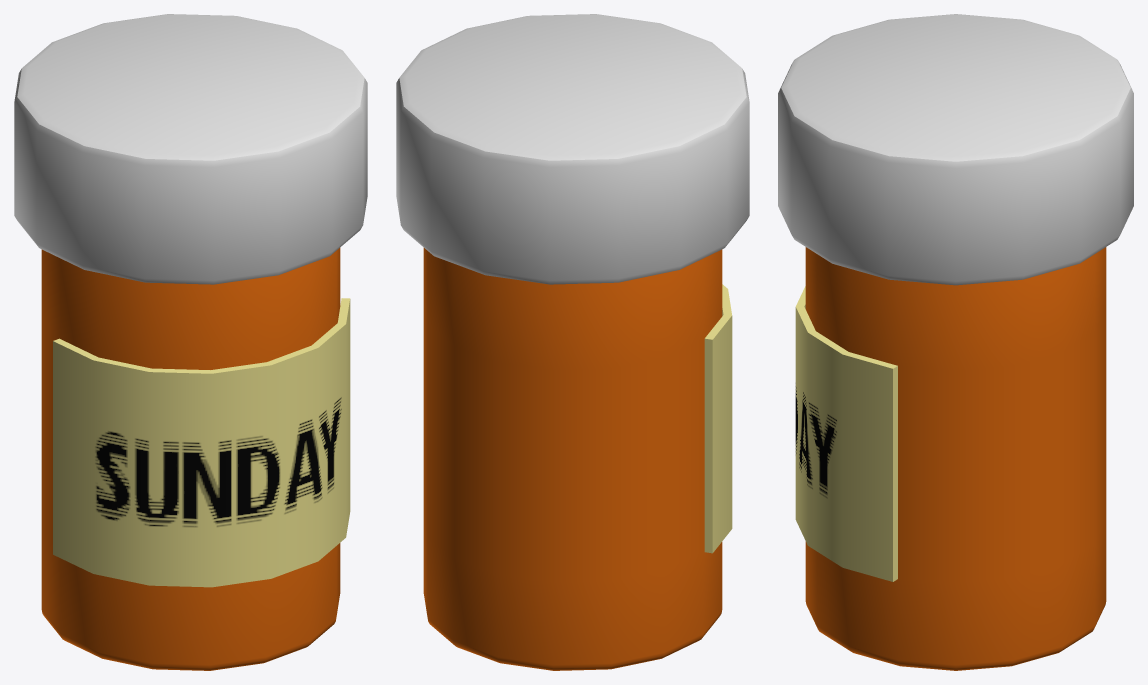
File: PillBottle.fbx
The picture shows the model from 3 angles, left to right: view 1: azimuth 30°, elevation 25°; view 2: azimuth 150°, elevation 25°; view 3: azimuth 270°, elevation 25°; orthographic projection.
Visible parts, largest first — view 1: pillsAfternoon.001; view 2: pillsAfternoon.001; view 3: pillsAfternoon.001.
Part boxes in pixels (left/top/right/bottom): pillsAfternoon.001: left=14, top=14, right=367, bottom=670; pillsAfternoon.001: left=396, top=14, right=749, bottom=670; pillsAfternoon.001: left=778, top=14, right=1133, bottom=670.
Bounding box in the file's own units: 4.15 × 6.75 × 4.15.
